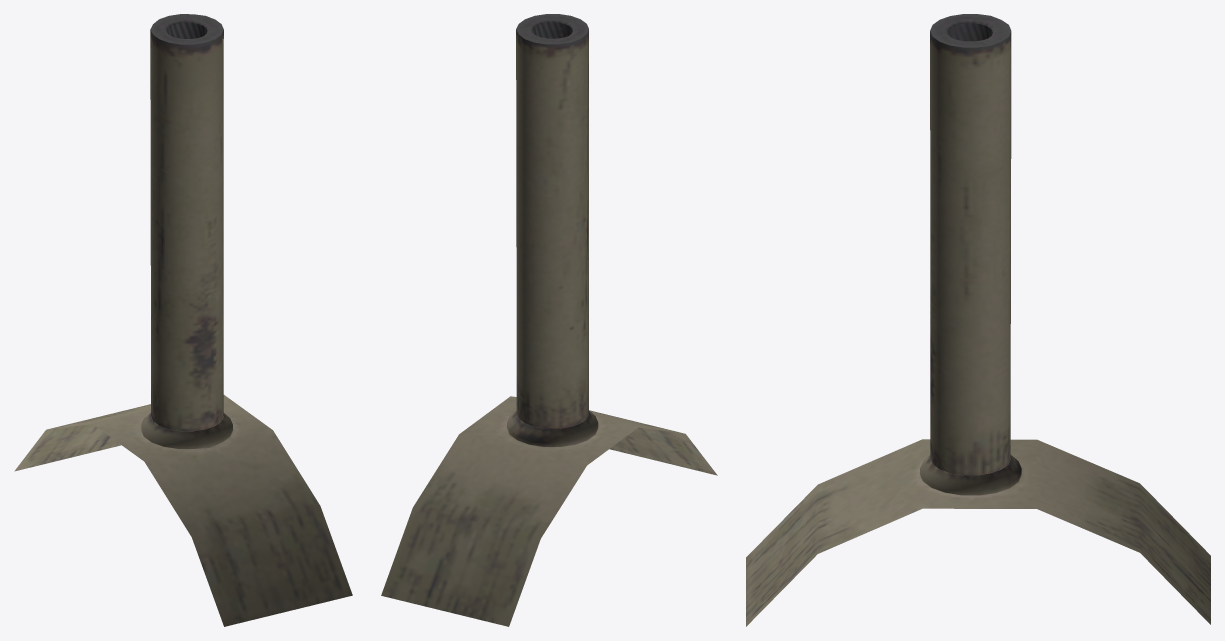
File: Gun_06.glb
The picture shows the model from 3 angles, left to right: view 1: azimuth 30°, elevation 25°; view 2: azimuth 150°, elevation 25°; view 3: azimuth 270°, elevation 25°; orthographic projection. The views are drawn at different scales.
Parts seen in each view (by area): view 1: set_0_group_0; view 2: set_0_group_0; view 3: set_0_group_0.
Boxes of the visible parts, x1,y1,x2,y2 form: set_0_group_0: (14,14,352,626); set_0_group_0: (381,14,717,626); set_0_group_0: (746,14,1210,626).
Bounding box in the file's own units: 0.2119 × 0.7982 × 0.5987.
Materials: 1 (1 with a texture image).
